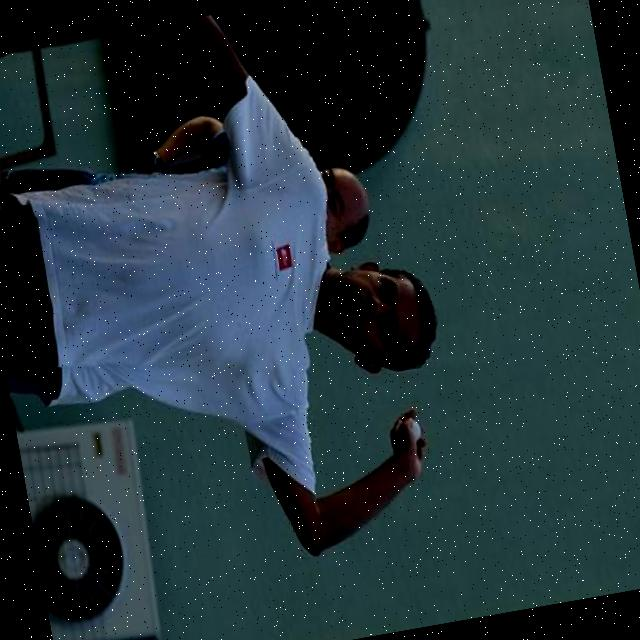ping-pong-ball: (402, 420, 422, 442)
